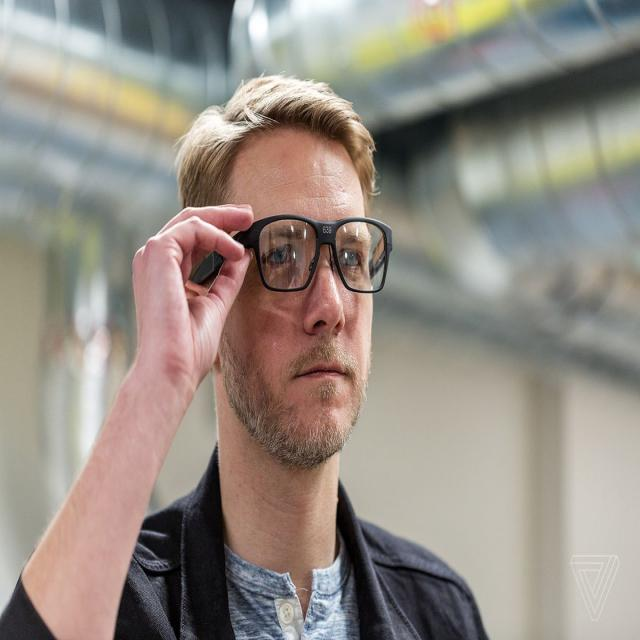Glasses: (243, 212, 393, 295)
